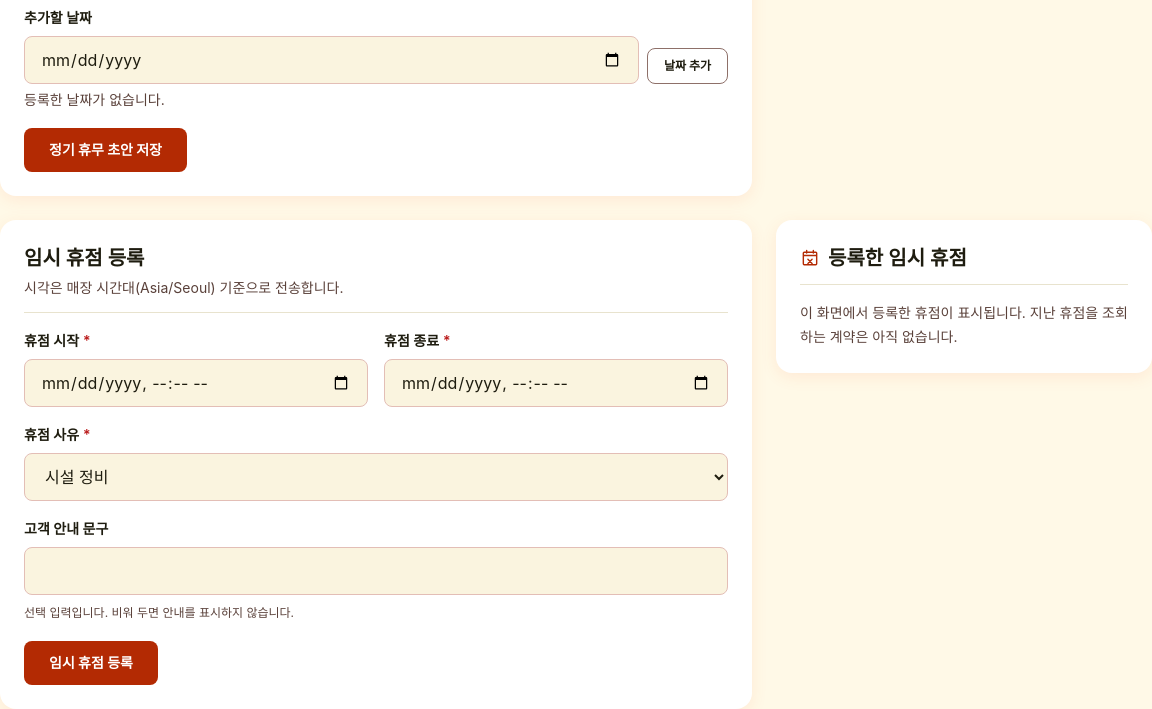
Test: 휴무·휴점 화면 › 취소된 휴점에는 변경 명령을 남기지 않는다
This screenshot has width=1152, height=709.
(page scrolled)
Step 1. Type "2026-09-01T00:00" into the field labelled "휴점 시작" → x=196, y=383, box left=24, top=359, right=368, bottom=407
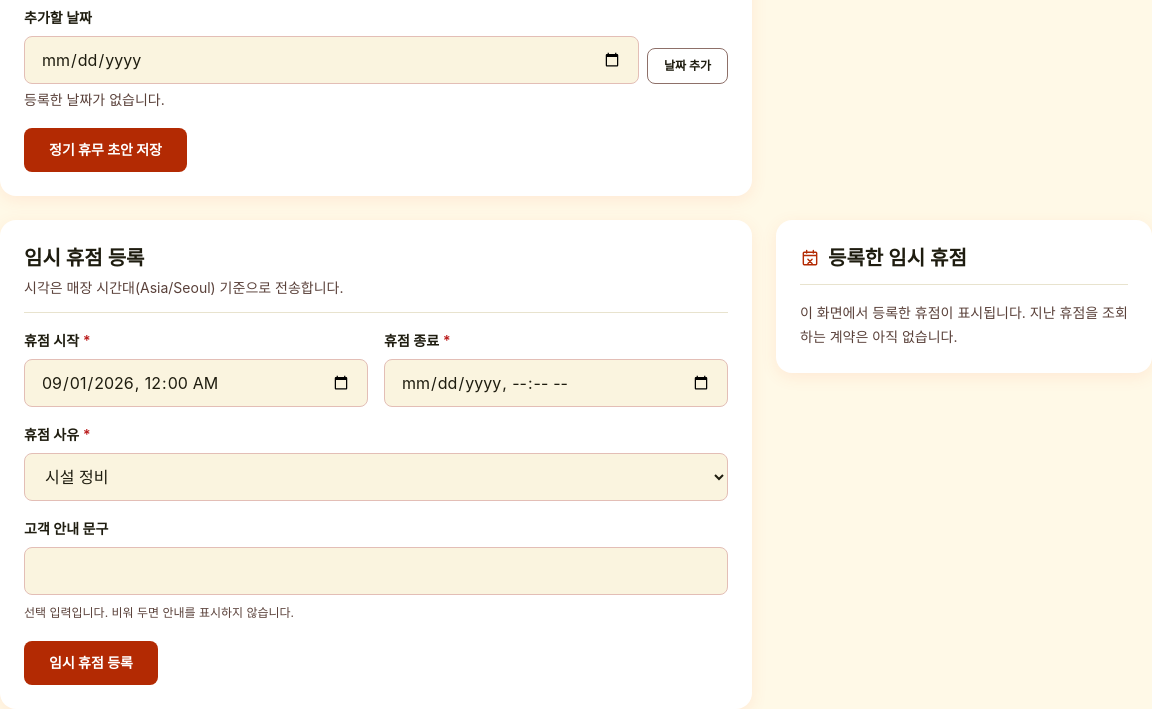
Step 2. Type "2026-09-02T00:00" into the field labelled "휴점 종료" → x=556, y=383, box left=384, top=359, right=728, bottom=407
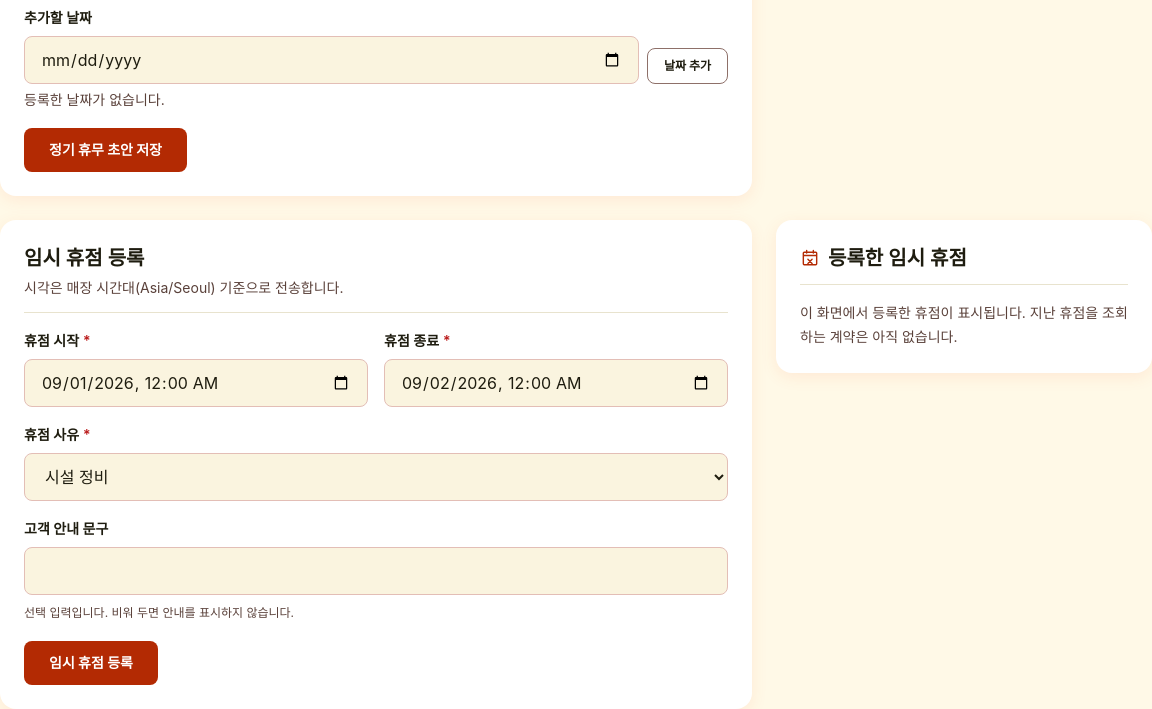
Step 3. Click the button "임시 휴점 등록" → x=91, y=663, box left=24, top=641, right=158, bottom=685
(page scrolled)
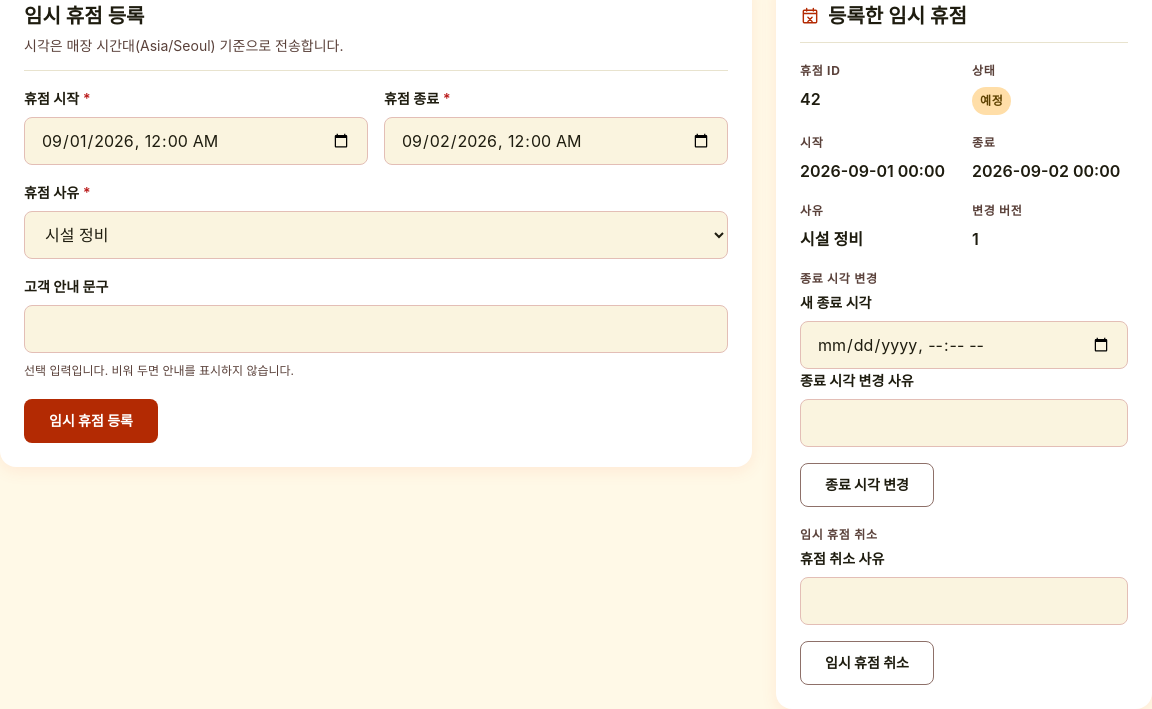
Step 4. Type "정비 일정 변경" into the field labelled "휴점 취소 사유" → x=964, y=601, box left=800, top=577, right=1128, bottom=625
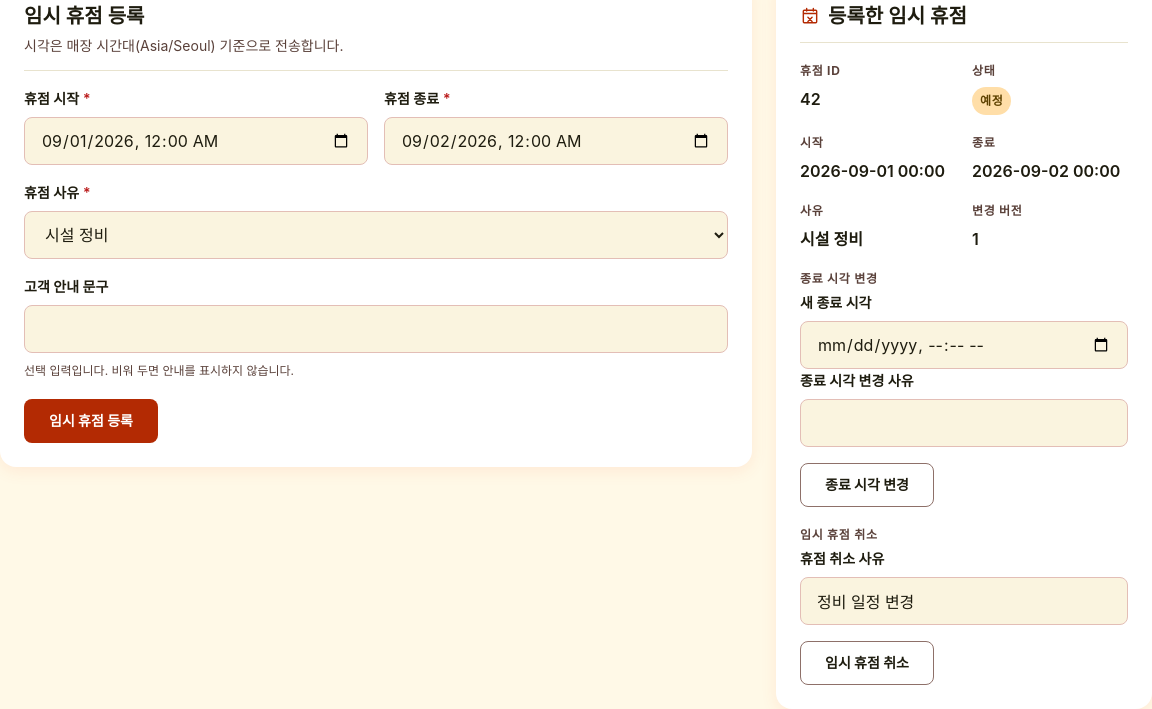
Step 5. Click the button "임시 휴점 취소" → x=867, y=663, box left=800, top=641, right=934, bottom=685
(page scrolled)
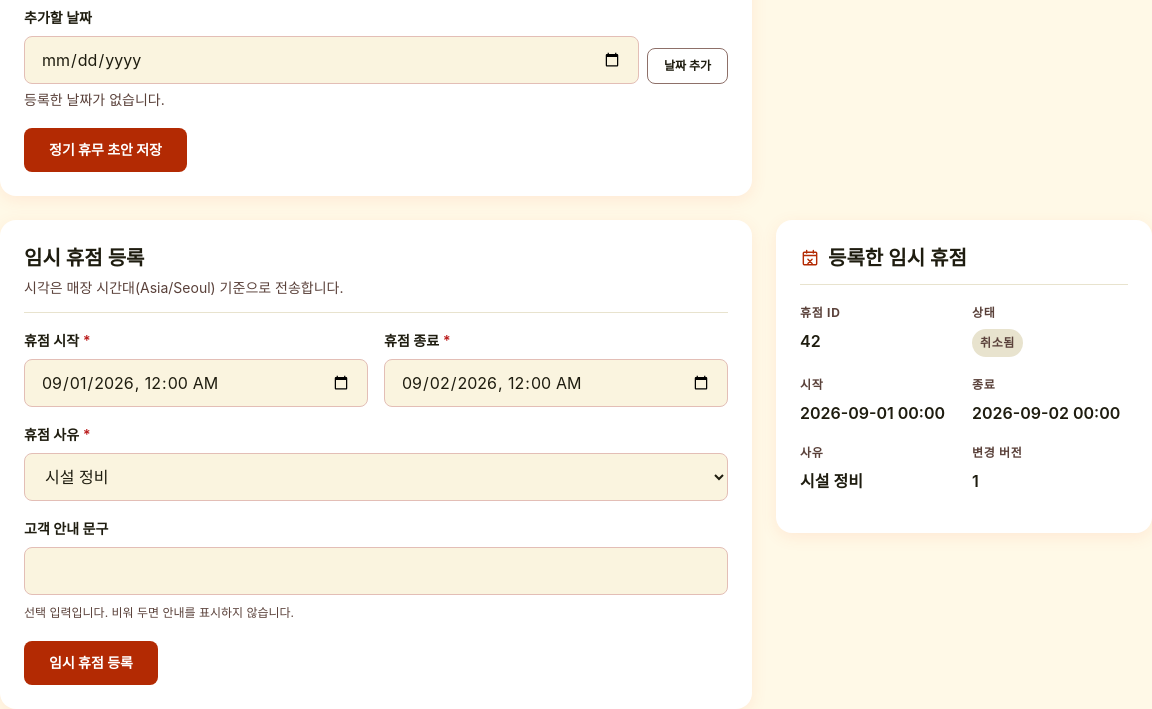
Expected: the text "취소됨" is shown, left=972, top=329, right=1023, bottom=357
Expected: the text "종료 시각 변경" is gone
